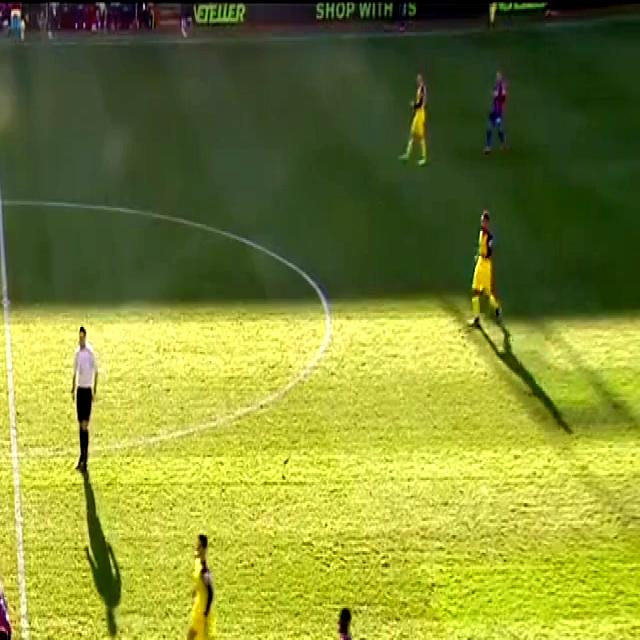referee: (61, 318, 102, 480)
soccer-player: (176, 528, 243, 640), (463, 206, 507, 326), (394, 70, 439, 174), (476, 69, 515, 162), (316, 604, 375, 640), (0, 610, 19, 640)
